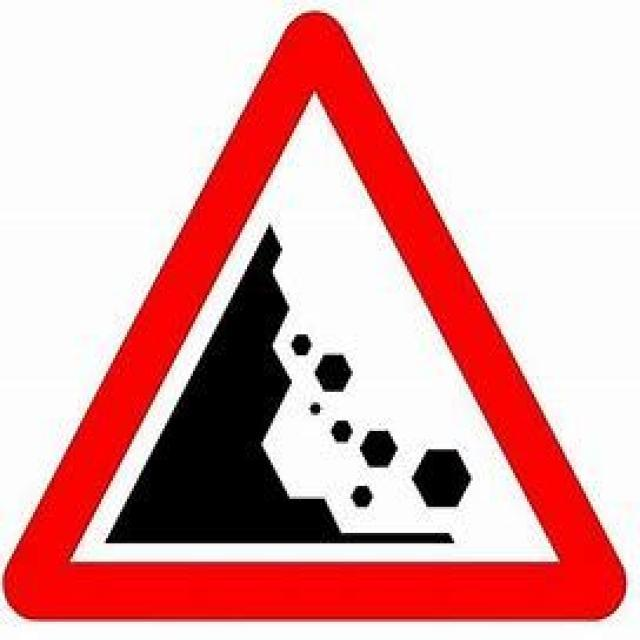falling rocks: (13, 18, 625, 623)
